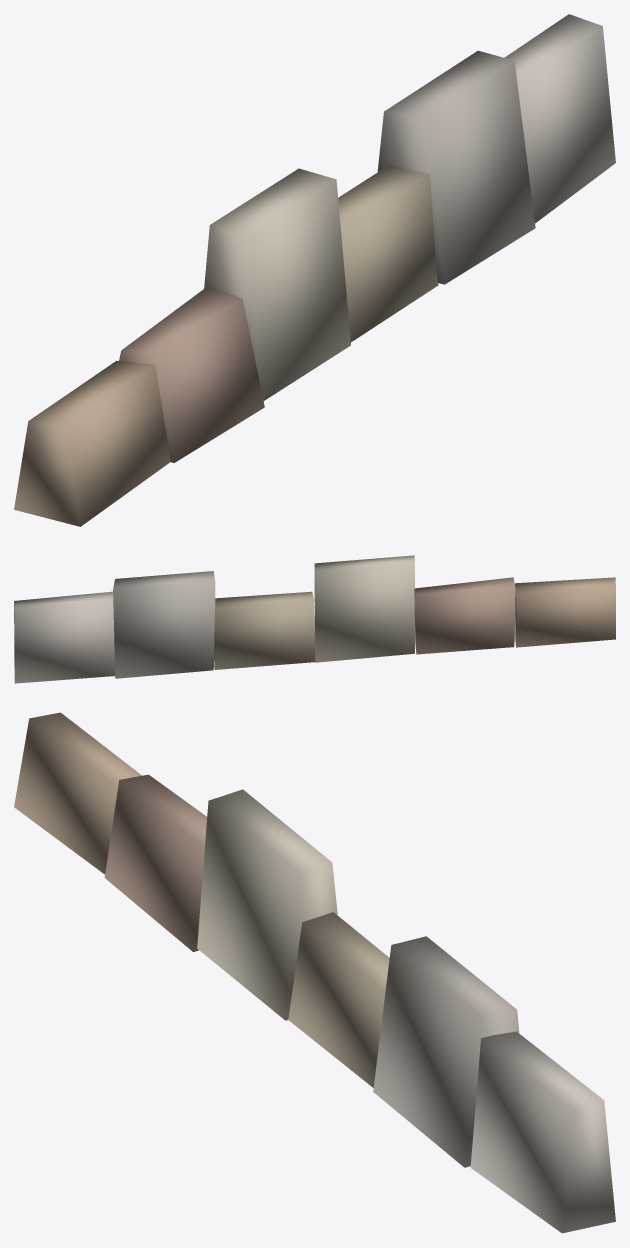
Rendered from farm_-14_-11_far.glb.
The picture shows the model from 3 angles, top to bottom: view 1: azimuth 30°, elevation 25°; view 2: azimuth 150°, elevation 25°; view 3: azimuth 270°, elevation 25°; orthographic projection. The views are drawn at different scales.
Parts seen in each view (by area): view 1: geometry_0; view 2: geometry_0; view 3: geometry_0.
Boxes of the visible parts, x1,y1,x2,y2 form: geometry_0: (14,14,615,526); geometry_0: (14,555,615,683); geometry_0: (14,712,615,1233).
Size of the model in its own units: 8.39 by 1.95 by 5.59.
